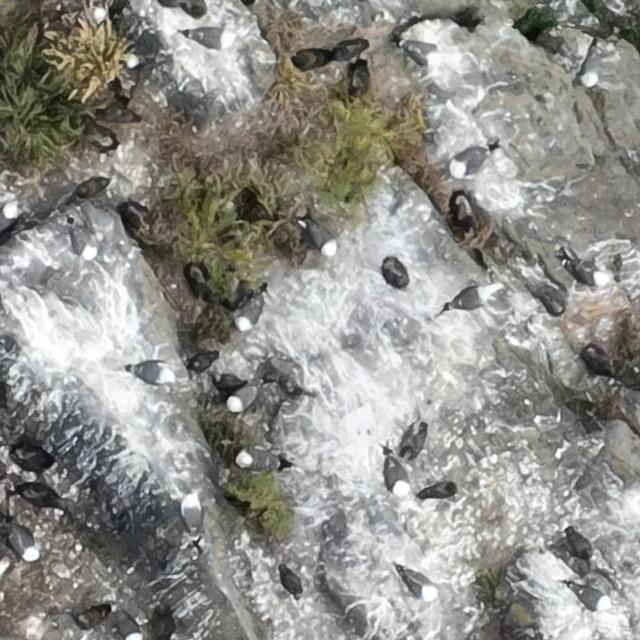umineko: (562, 257, 612, 287), (397, 36, 443, 68), (398, 562, 437, 599), (129, 357, 177, 386), (443, 286, 501, 310), (385, 454, 414, 498), (580, 46, 607, 93), (69, 220, 99, 262), (235, 448, 285, 473), (125, 49, 174, 73), (183, 26, 234, 49), (59, 5, 107, 27), (454, 149, 488, 173), (306, 223, 334, 252), (227, 386, 257, 412), (183, 497, 202, 535), (236, 297, 259, 328), (16, 529, 38, 561), (1, 202, 22, 234), (572, 586, 604, 605), (281, 570, 301, 597), (92, 5, 106, 25)
